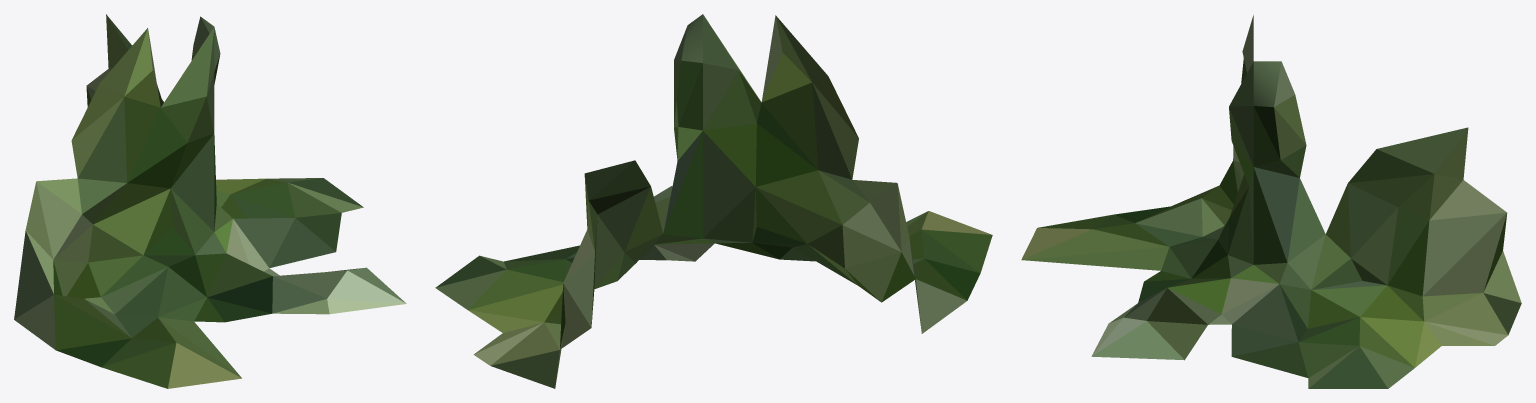
Rendered from Decal_IvyCorner-A.fbx.
3 views of the same model, side by side, from view 1: azimuth 30°, elevation 25°; view 2: azimuth 150°, elevation 25°; view 3: azimuth 270°, elevation 25° (orthographic). The views are drawn at different scales.
Parts seen in each view (by area): view 1: Decal_IvyCorner-A; view 2: Decal_IvyCorner-A; view 3: Decal_IvyCorner-A.
Boxes of the visible parts, left/top/right/bottom form: Decal_IvyCorner-A: left=14, top=14, right=406, bottom=388; Decal_IvyCorner-A: left=435, top=14, right=992, bottom=388; Decal_IvyCorner-A: left=1021, top=15, right=1521, bottom=388.
Size of the model in its own units: 354 by 233 by 410.
